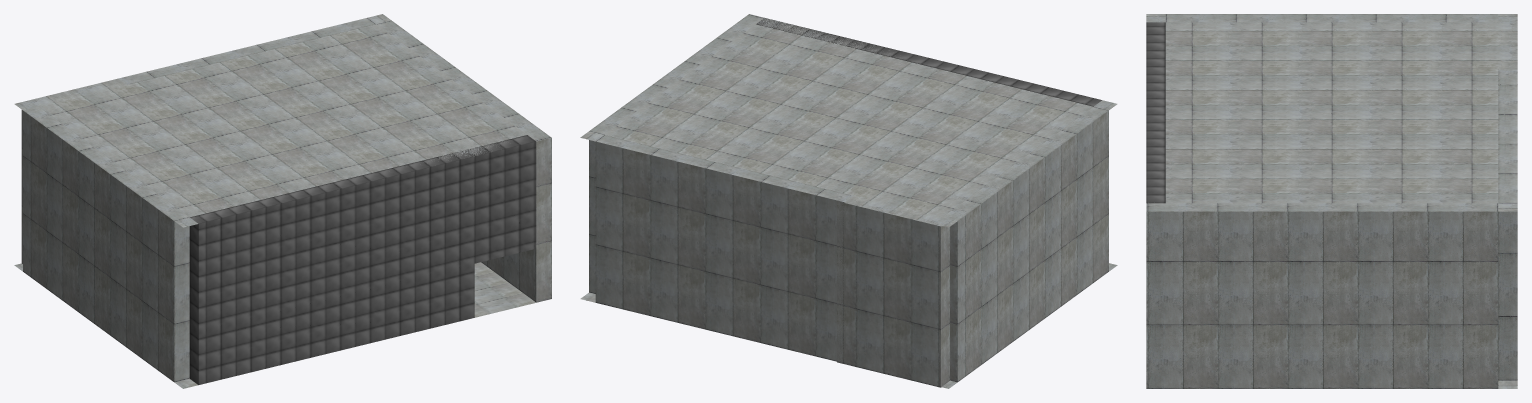
The model's file is Level_28.fbx.
3 views of the same model, side by side, from view 1: azimuth 30°, elevation 25°; view 2: azimuth 150°, elevation 25°; view 3: azimuth 270°, elevation 25° (orthographic). The views are drawn at different scales.
Parts seen in each view (by area): view 1: Wall.018, NoTeleport.017; view 2: Wall.018, NoTeleport.017; view 3: Wall.018, NoTeleport.017.
Part boxes in pixels (box(x1,y1,x2,y2)): Wall.018: box(14, 14, 551, 388); NoTeleport.017: box(189, 135, 536, 384); Wall.018: box(580, 14, 1117, 388); NoTeleport.017: box(756, 18, 1101, 106); Wall.018: box(1146, 14, 1517, 388); NoTeleport.017: box(1146, 22, 1165, 203).
Bounding box in the file's own units: 23.92 × 19 × 11.
